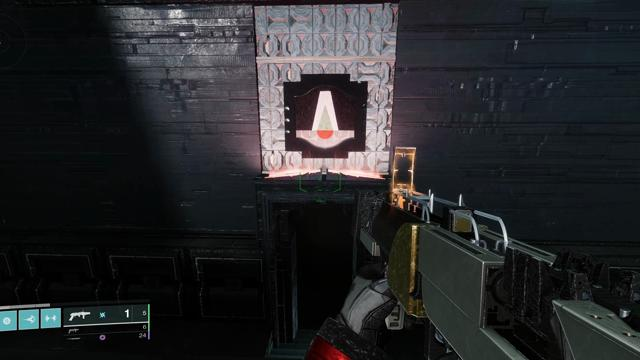enter: (294, 85, 356, 149)
